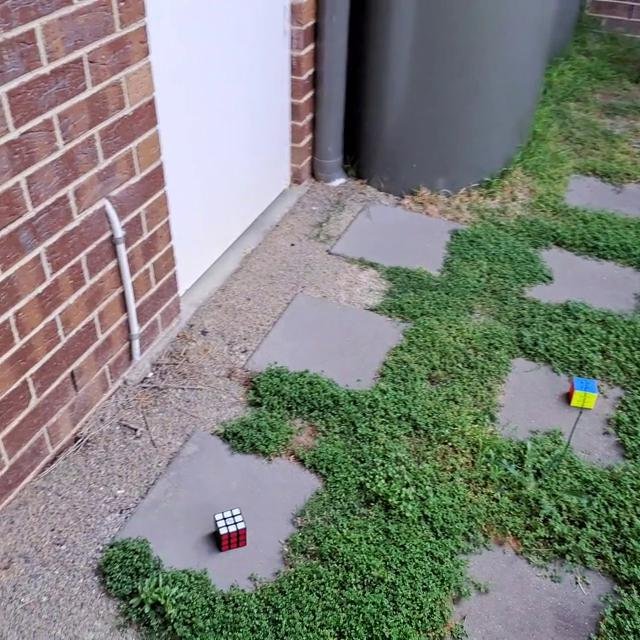rubix_cube: (212, 506, 248, 554), (566, 376, 600, 410)
